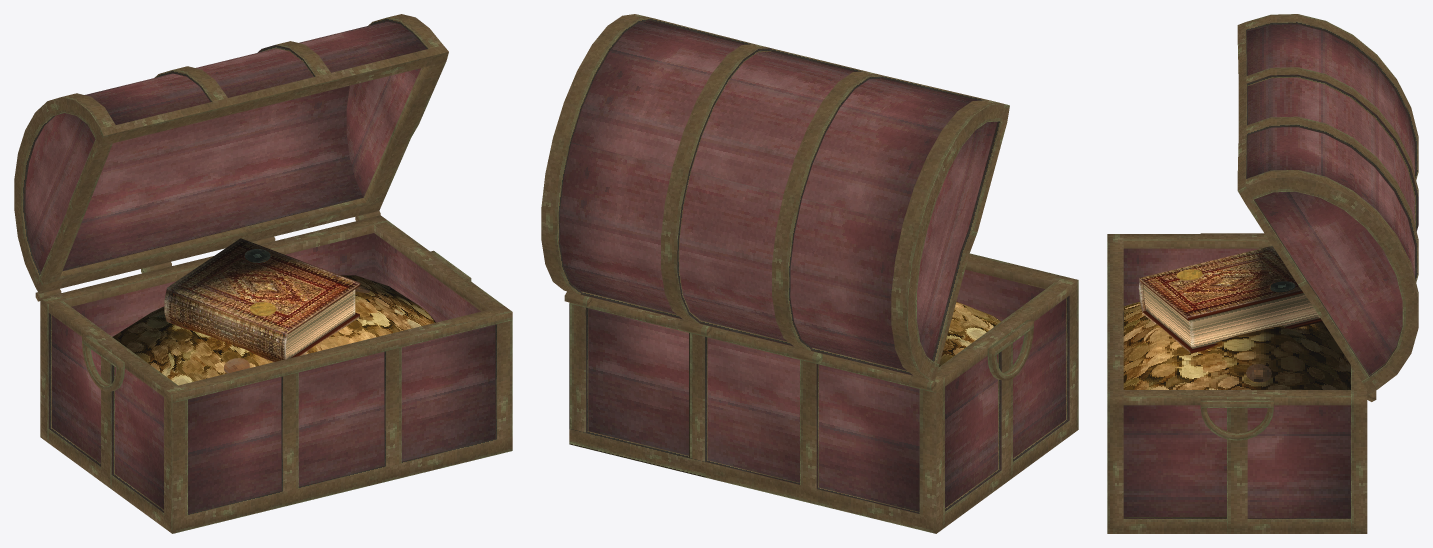
Rendered from chest_grimoir.glb.
3 views of the same model, side by side, from view 1: azimuth 30°, elevation 25°; view 2: azimuth 150°, elevation 25°; view 3: azimuth 270°, elevation 25° (orthographic). The views are drawn at different scales.
Visible parts, largest first — view 1: bottom, Top_empty, Cylinder.001, handles; view 2: Top_empty, bottom, Cylinder.001, handles; view 3: Top_empty, bottom, Cylinder.001, handles.
Part boxes in pixels (x1,y1,x2,y2): bottom: [40, 215, 512, 533]; Top_empty: [14, 14, 448, 301]; Cylinder.001: [112, 238, 435, 385]; handles: [82, 250, 471, 391]; Top_empty: [541, 14, 1009, 391]; bottom: [569, 253, 1078, 533]; Cylinder.001: [939, 301, 1000, 366]; handles: [987, 320, 1033, 380]; Top_empty: [1237, 14, 1418, 401]; bottom: [1107, 234, 1367, 533]; Cylinder.001: [1123, 246, 1350, 389]; handles: [1200, 233, 1273, 440].
Bounding box in the file's own units: 1.54 × 1.51 × 1.2.
Materials: 3 (3 with a texture image).
